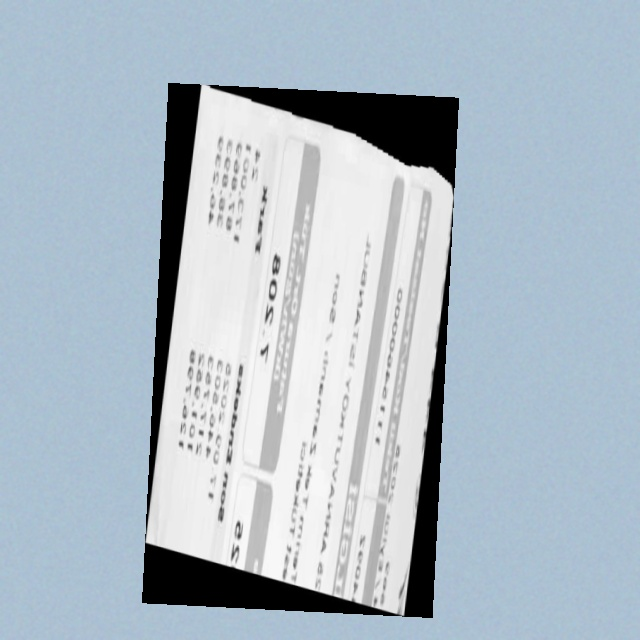electricity-bill: (142, 82, 458, 618)
